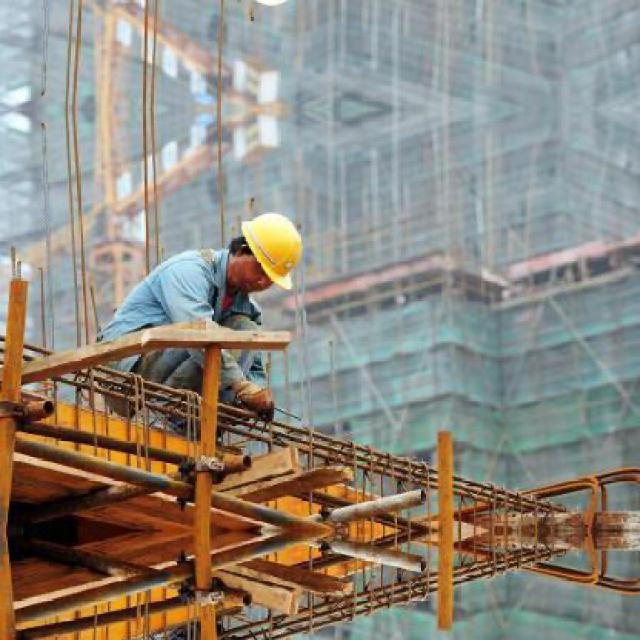helmet: (217, 212, 309, 300)
